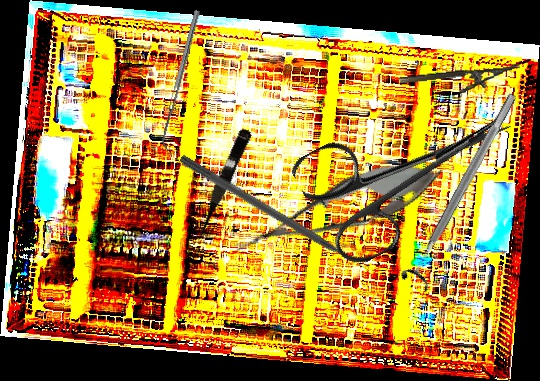Fixation Ring: (396, 86, 529, 294)
Iris Scissors: (287, 63, 536, 274)
Micro Scissor: (222, 144, 453, 275), (188, 126, 254, 244)
Needle Holder: (399, 63, 522, 100)
Pusher: (177, 153, 371, 277)
Spatula Surgical: (157, 10, 206, 152)
